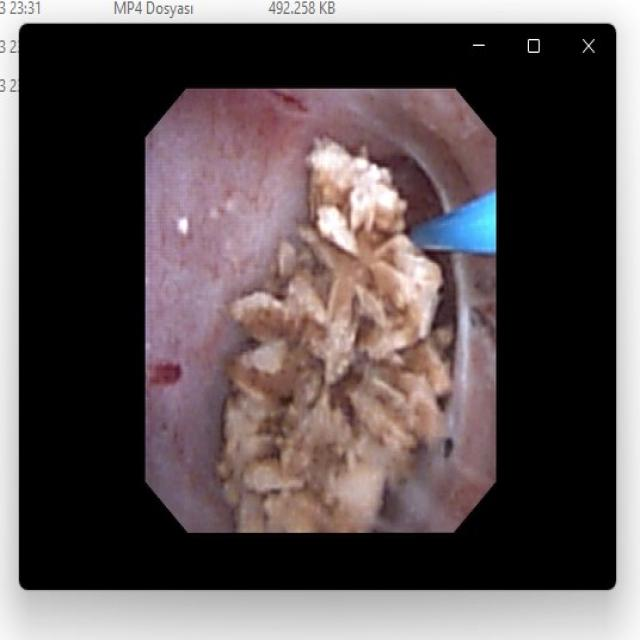fiber: (418, 198, 491, 250)
stone: (219, 139, 455, 521)
tissue: (154, 95, 488, 525)
